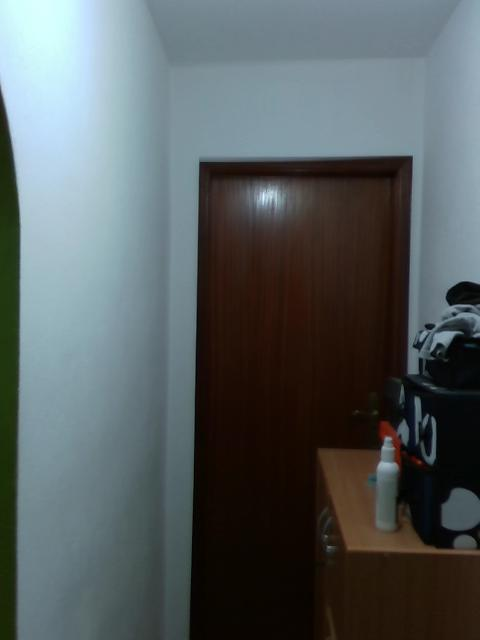door: (208, 175, 398, 640)
